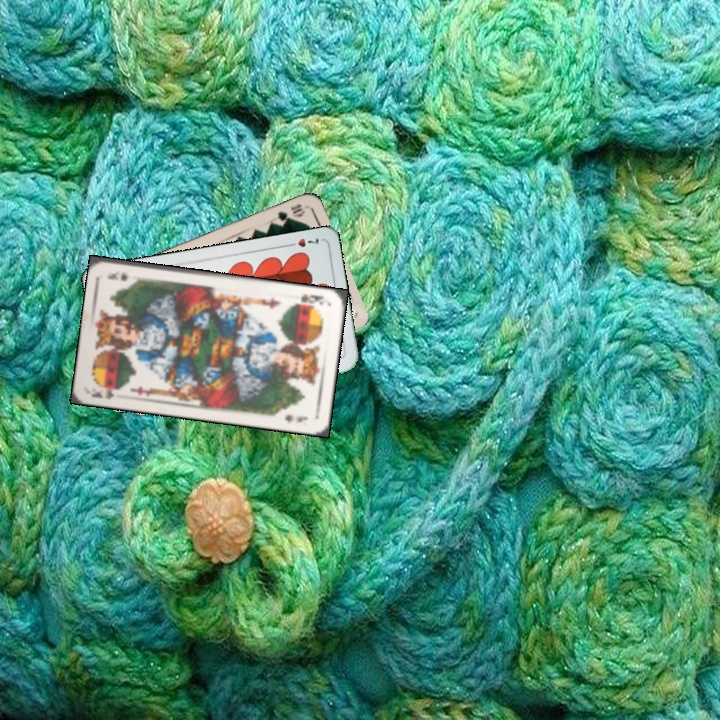G10: (273, 200, 308, 224)
H7: (282, 234, 321, 250)
SK: (87, 382, 122, 401), (297, 290, 327, 307)
